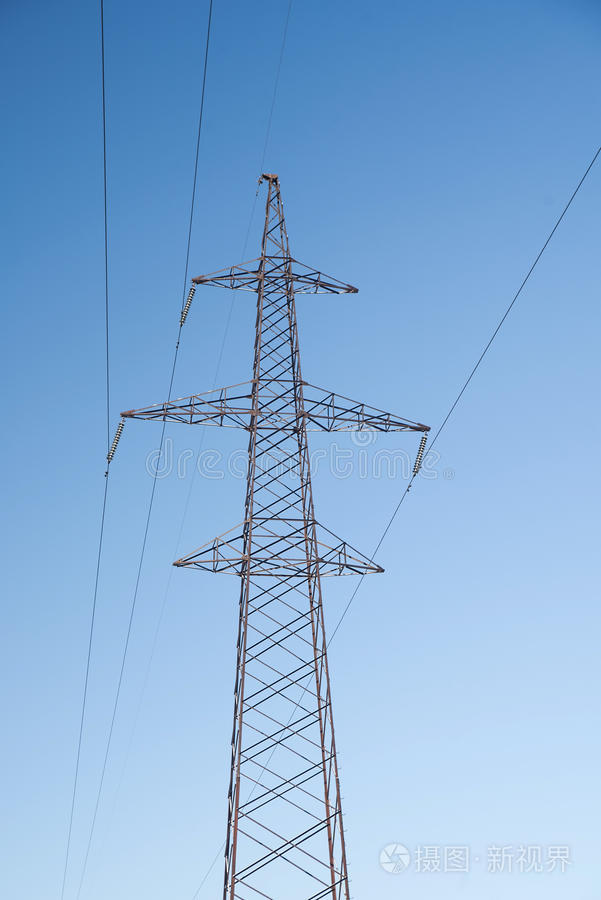insulator: (410, 435, 430, 473), (177, 285, 198, 321), (109, 421, 126, 461)
